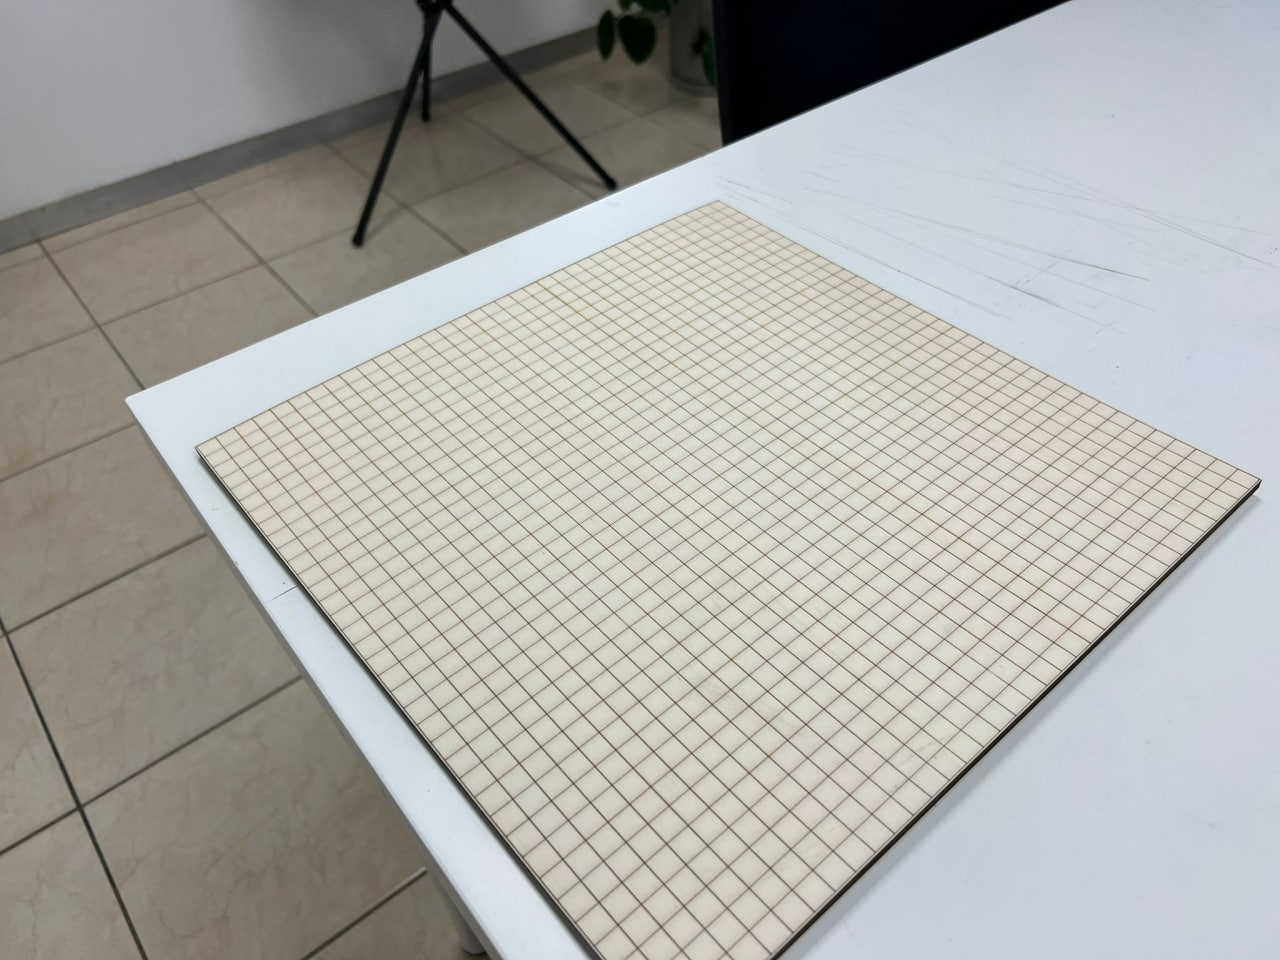grid: (189, 195, 1263, 960)
